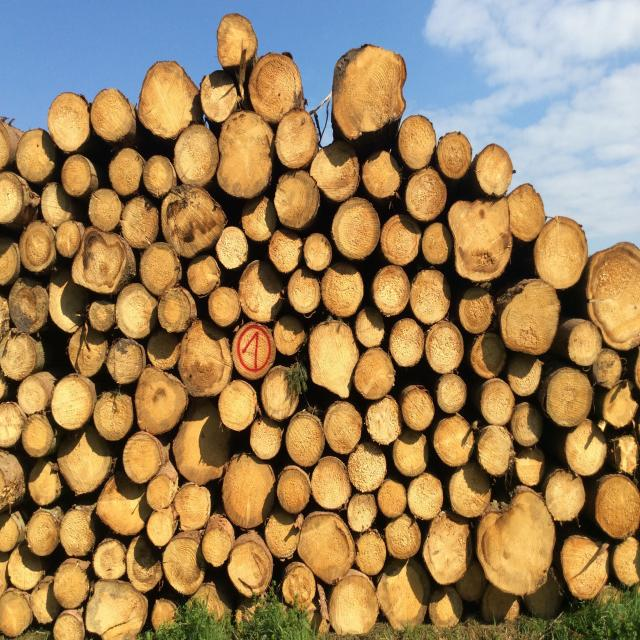wood-log: (476, 488, 556, 597), (334, 47, 405, 139), (584, 242, 638, 349), (452, 200, 514, 285), (216, 115, 271, 202), (500, 282, 562, 358), (163, 185, 228, 255), (138, 64, 197, 140), (179, 321, 235, 398), (220, 453, 275, 529), (310, 320, 362, 398), (296, 515, 352, 587), (173, 416, 234, 482), (375, 558, 429, 630), (535, 218, 587, 292), (72, 231, 132, 295), (84, 578, 145, 638), (58, 432, 115, 496), (134, 365, 188, 432), (249, 51, 302, 119), (421, 512, 469, 585), (330, 572, 380, 636), (543, 364, 595, 425), (558, 534, 606, 600), (225, 530, 271, 598), (332, 197, 381, 260), (313, 144, 363, 204), (272, 172, 320, 233), (238, 260, 284, 323), (175, 124, 221, 186), (98, 475, 146, 534), (596, 475, 640, 538), (162, 535, 205, 596), (274, 112, 318, 170), (230, 323, 274, 381), (49, 95, 92, 154), (51, 373, 96, 429), (564, 420, 607, 477), (90, 88, 136, 141), (408, 268, 451, 324), (449, 462, 492, 518), (322, 261, 364, 318), (8, 277, 49, 334), (352, 348, 396, 401), (506, 184, 546, 242), (116, 284, 158, 339), (312, 456, 353, 512), (16, 128, 58, 182), (406, 166, 448, 220), (138, 244, 180, 297), (545, 468, 586, 522), (284, 414, 325, 468), (261, 368, 301, 423), (431, 415, 474, 466), (325, 401, 365, 455), (1, 332, 45, 381), (123, 434, 166, 484), (399, 116, 438, 170), (217, 15, 256, 69), (526, 570, 568, 620), (218, 379, 259, 430), (68, 324, 108, 376), (474, 144, 513, 197), (58, 506, 98, 557), (94, 391, 134, 442), (426, 321, 464, 374), (361, 153, 402, 202), (381, 216, 421, 266), (346, 442, 386, 492), (122, 196, 160, 248), (199, 69, 237, 121), (54, 558, 93, 608), (476, 426, 514, 477), (20, 220, 57, 272), (129, 536, 163, 592), (373, 266, 411, 316), (472, 331, 510, 381), (281, 561, 319, 609), (388, 319, 425, 368), (202, 513, 236, 566), (108, 337, 146, 384), (174, 483, 211, 531), (364, 398, 401, 446), (438, 132, 473, 182), (567, 320, 603, 368), (108, 149, 144, 197), (460, 284, 496, 332), (386, 512, 422, 560), (504, 351, 542, 396), (400, 386, 437, 432), (7, 544, 44, 590), (408, 473, 444, 520), (479, 378, 515, 425), (510, 401, 546, 448), (391, 431, 427, 477), (276, 467, 311, 514), (603, 382, 638, 428), (161, 286, 196, 332), (25, 508, 58, 556), (0, 451, 25, 513), (22, 413, 56, 458), (288, 268, 321, 314), (42, 184, 78, 226), (214, 227, 249, 270), (272, 314, 307, 357), (268, 229, 302, 273), (187, 255, 223, 296), (89, 189, 124, 231), (26, 464, 60, 507), (357, 529, 388, 576), (240, 196, 272, 241), (144, 156, 177, 199), (61, 154, 94, 197), (0, 588, 30, 635), (252, 416, 284, 460), (18, 372, 51, 414), (353, 306, 386, 348), (481, 586, 517, 624), (94, 540, 126, 582), (207, 287, 240, 327), (345, 494, 378, 534), (455, 562, 486, 604), (614, 538, 640, 588), (592, 350, 624, 390), (437, 373, 468, 414), (424, 223, 453, 266), (145, 510, 177, 548), (376, 479, 406, 519), (0, 173, 23, 224), (515, 452, 547, 488), (0, 401, 24, 448), (303, 233, 332, 271), (148, 473, 176, 510), (0, 236, 20, 286), (53, 611, 85, 640), (0, 511, 17, 552), (0, 120, 12, 170), (19, 628, 51, 640), (0, 377, 10, 401)
